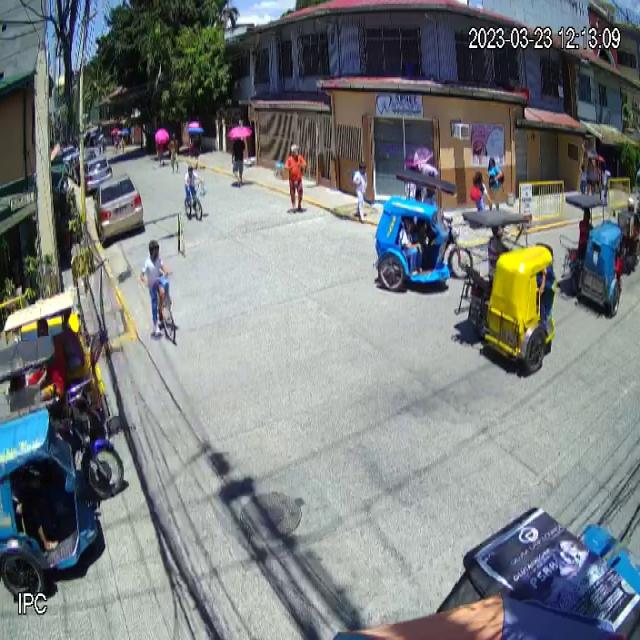Tricycle: (0, 339, 125, 601), (452, 206, 557, 370), (372, 170, 476, 292), (560, 192, 625, 320)
